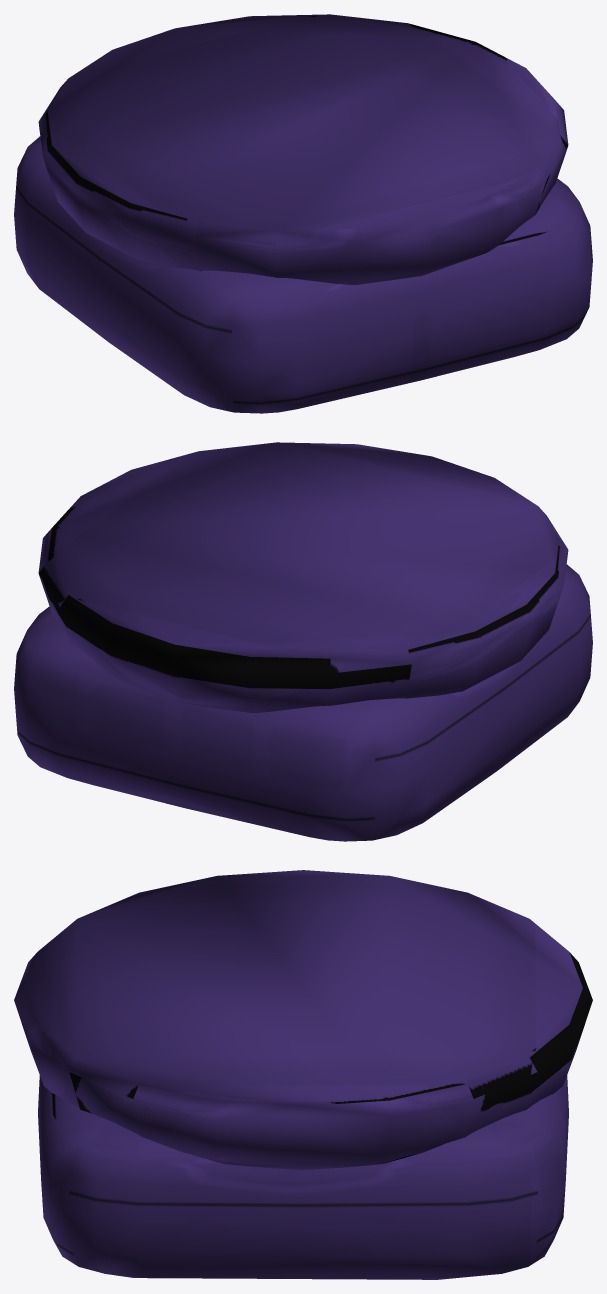
File: Estela_GuanteDer.fbx
3 views of the same model, one above another, from view 1: azimuth 30°, elevation 25°; view 2: azimuth 150°, elevation 25°; view 3: azimuth 270°, elevation 25° (orthographic). The views are drawn at different scales.
Visible parts, largest first — view 1: Estela_GuanteDer; view 2: Estela_GuanteDer; view 3: Estela_GuanteDer.
Boxes of the visible parts, <box> form: Estela_GuanteDer: <box>14,14,592,413</box>; Estela_GuanteDer: <box>14,442,592,841</box>; Estela_GuanteDer: <box>14,870,592,1279</box>.
Size of the model in its own units: 1.26 by 0.4943 by 1.26.
